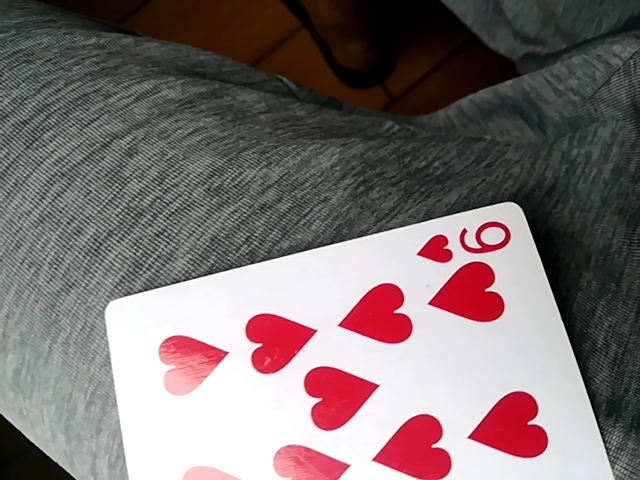hx 9: (114, 198, 607, 479)
